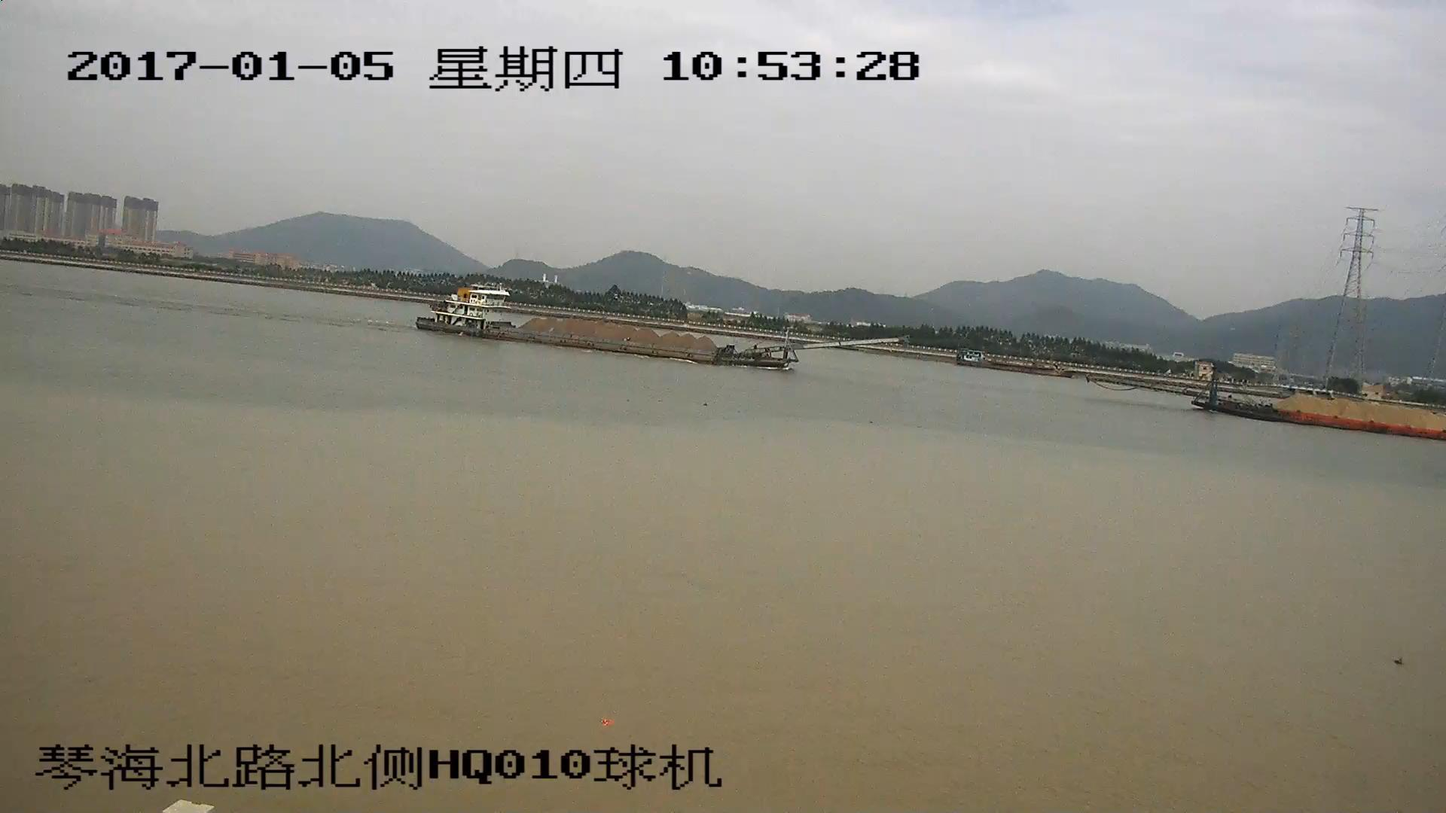ore carrier: (417, 285, 897, 368), (1094, 355, 1445, 437)
